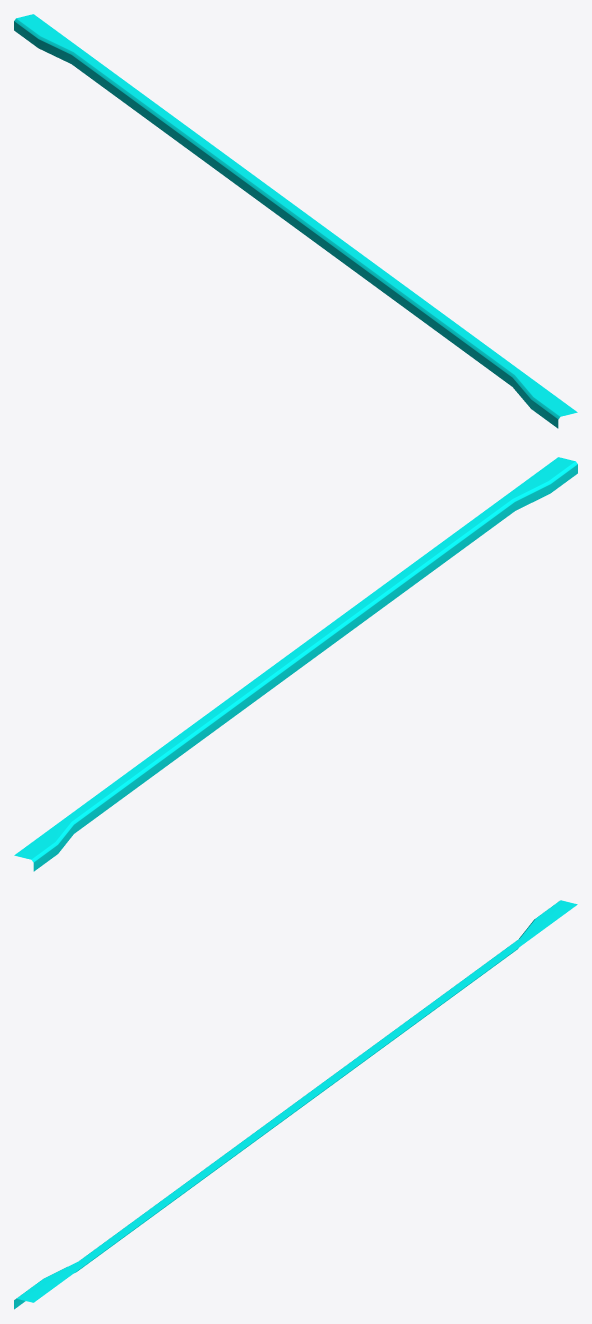
File: Emission.fbx
The picture shows the model from 3 angles, top to bottom: view 1: azimuth 30°, elevation 25°; view 2: azimuth 150°, elevation 25°; view 3: azimuth 330°, elevation 25°; orthographic projection.
Parts seen in each view (by area): view 1: Emission1; view 2: Emission1; view 3: Emission1.
Boxes of the visible parts, box(x1,y1,x2,y2) form: Emission1: box(14, 14, 577, 428); Emission1: box(14, 457, 577, 871); Emission1: box(14, 900, 577, 1309).
Size of the model in its own units: 0.2498 by 0.1411 by 12.
